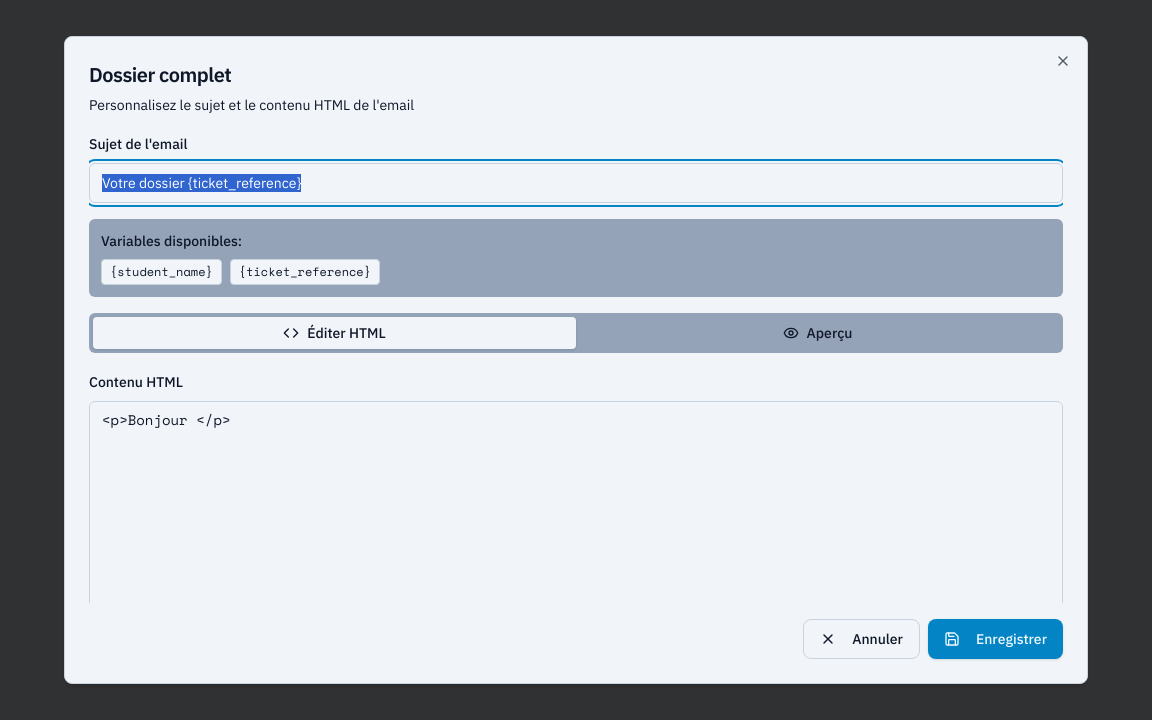
Test: EmailTemplateEditor › previews the template with example values
Click the text "{student_name}" at point(161, 272), box x1=101 y1=259 x2=222 y2=285
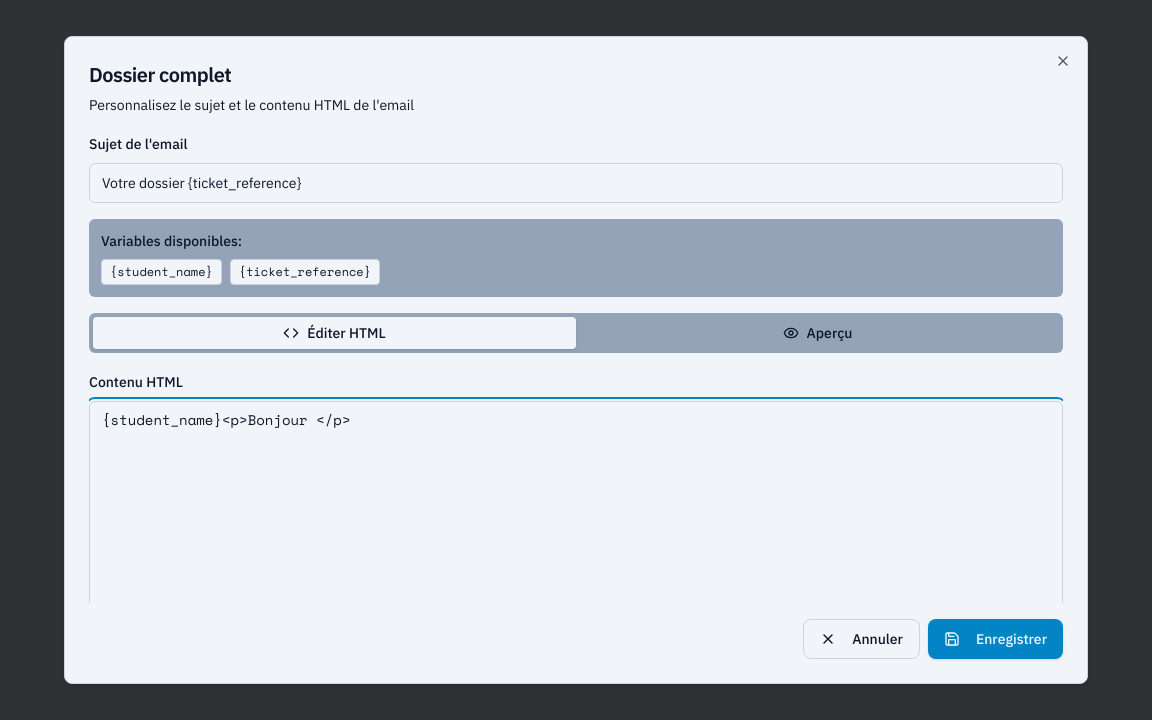
Click the tab "Aperçu" at point(818, 333), box x1=576 y1=317 x2=1059 y2=349
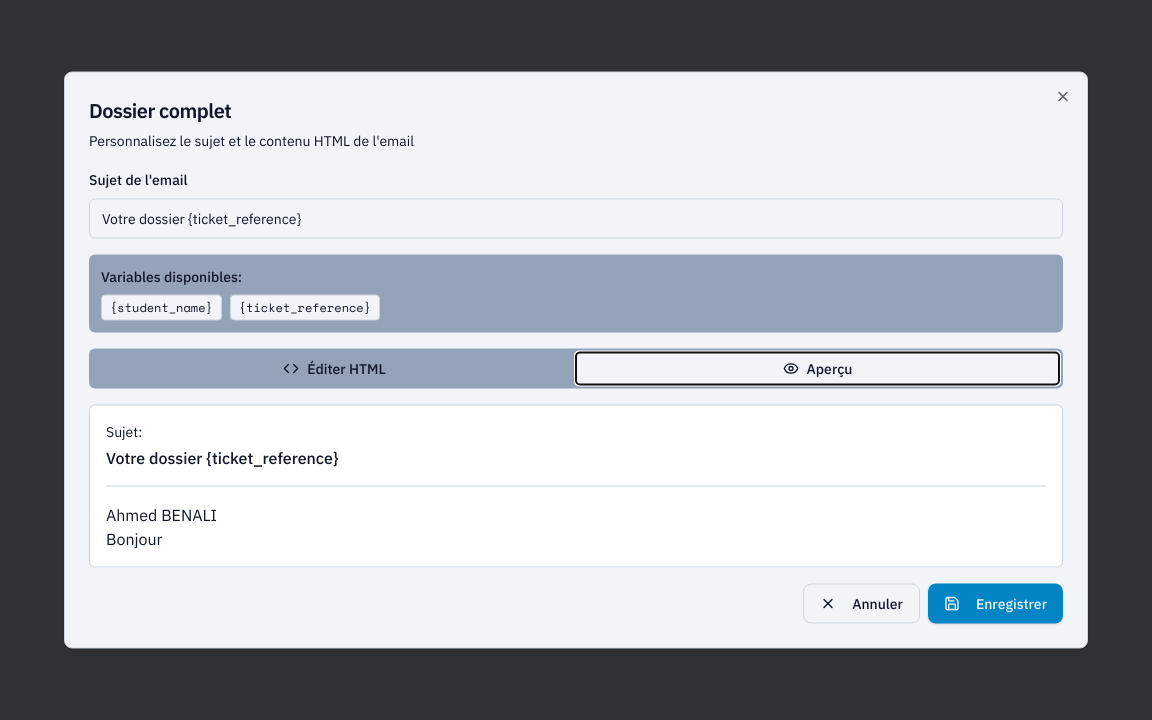
Result: the text "Ahmed BENALI" is shown at x1=106 y1=504 x2=217 y2=524
